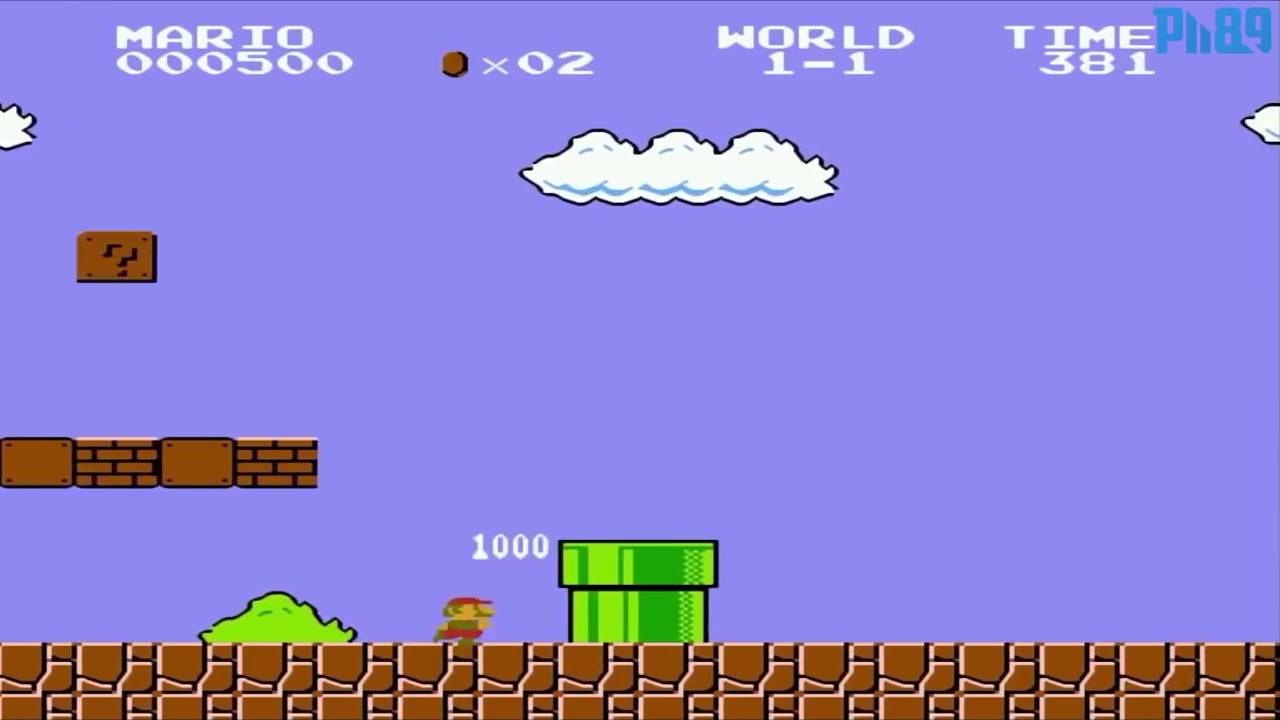mario: (423, 583, 503, 644)
